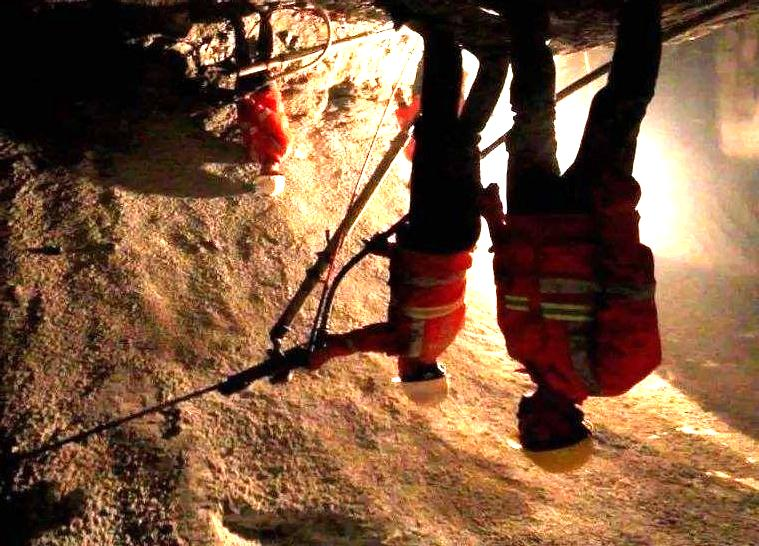helmet: (516, 394, 595, 475), (396, 355, 449, 406), (253, 158, 286, 197)
